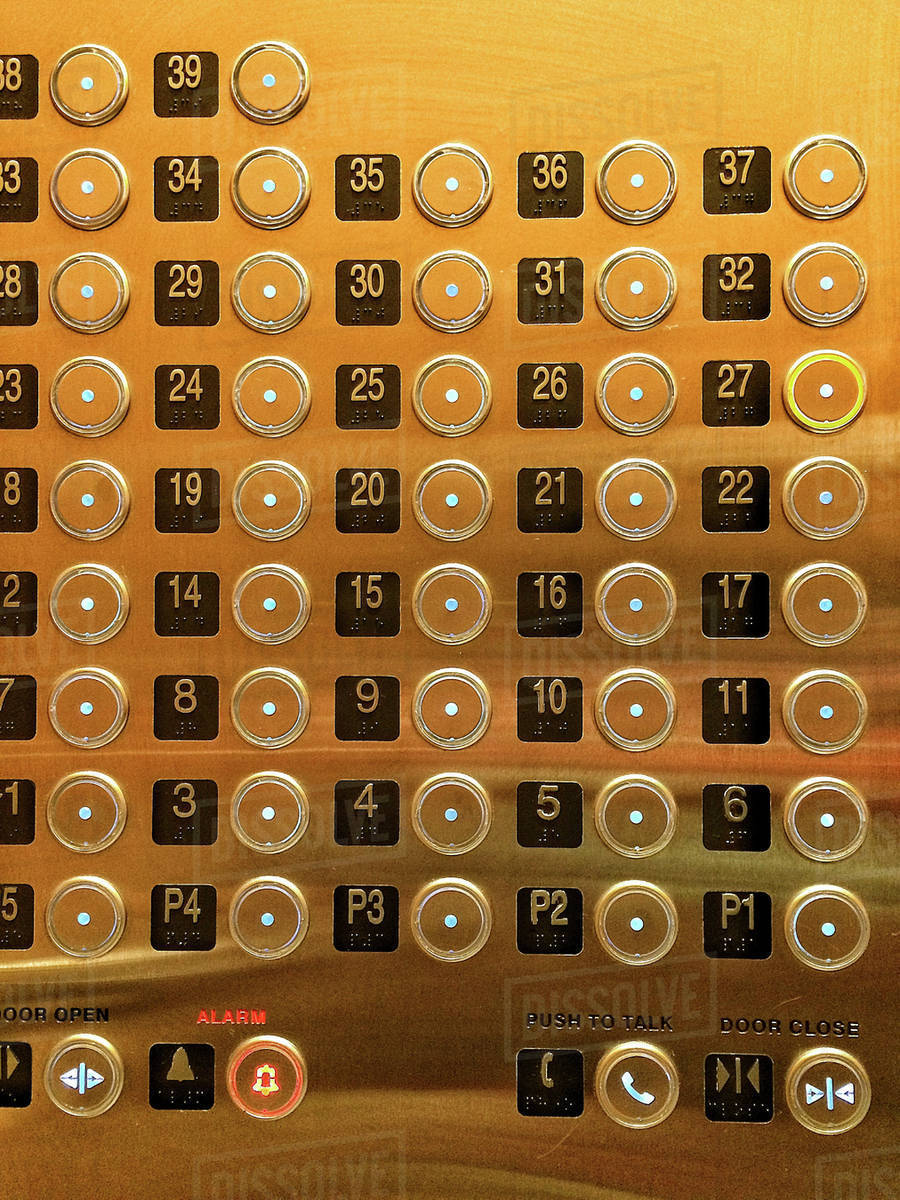button: (697, 1038, 879, 1141), (509, 1030, 684, 1137), (696, 876, 876, 977), (694, 556, 873, 653), (512, 873, 683, 973), (697, 664, 874, 760), (696, 240, 873, 334), (327, 557, 499, 653), (696, 773, 873, 866), (694, 451, 872, 543), (147, 763, 314, 861), (512, 770, 684, 864), (514, 450, 682, 546), (694, 347, 873, 437), (330, 451, 496, 548), (514, 663, 683, 758), (510, 347, 682, 440), (513, 557, 683, 651), (514, 136, 683, 230), (514, 243, 683, 337), (330, 768, 497, 863), (147, 871, 314, 966), (149, 350, 319, 443), (144, 1033, 314, 1126), (147, 557, 316, 650), (152, 454, 319, 548), (147, 660, 314, 754), (330, 873, 496, 967), (332, 348, 499, 441), (327, 140, 497, 231), (702, 133, 873, 223), (147, 141, 314, 233), (329, 663, 497, 754), (332, 246, 496, 337), (152, 38, 314, 127), (152, 248, 314, 337), (1, 350, 137, 444), (1, 246, 136, 339), (1, 453, 136, 546), (1, 663, 134, 756), (1, 869, 130, 964), (1, 559, 134, 651), (1, 766, 132, 858), (1, 146, 134, 236), (1, 1028, 127, 1121), (1, 43, 134, 131)
